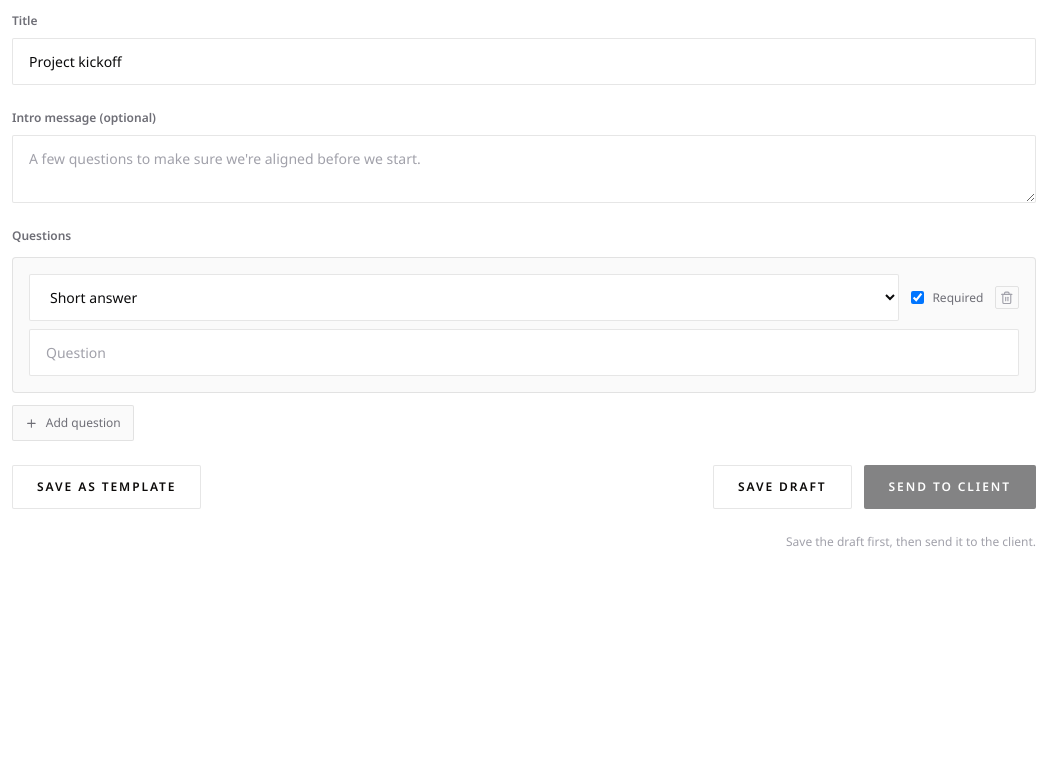
Test: KickoffBuilder › adds and removes question rows
Check: the number of fields with placeholder "Question" is 1, box x1=29 y1=329 x2=1019 y2=376
Step 1. Click the button "Add question" → (73, 423), box x1=12 y1=405 x2=134 y2=441
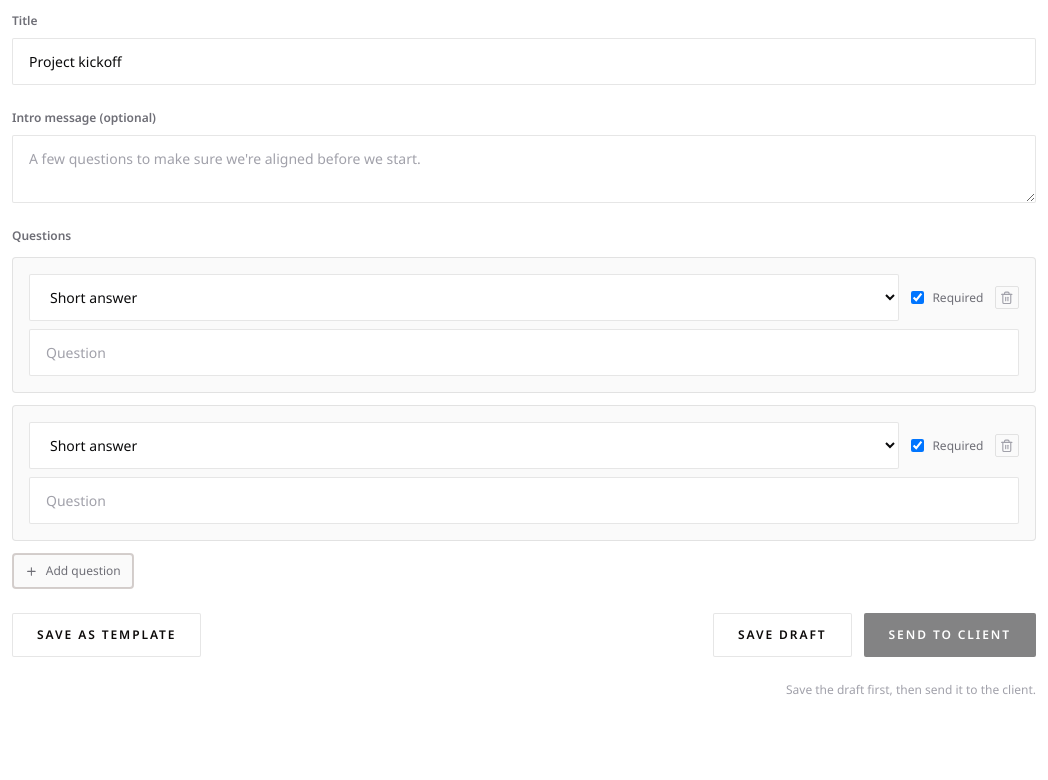
Check: the number of fields with placeholder "Question" is 2, box x1=29 y1=329 x2=1019 y2=376; x1=29 y1=477 x2=1019 y2=524
Step 2. Click the 1st button named "Remove question" → (1007, 298), box x1=995 y1=286 x2=1019 y2=309
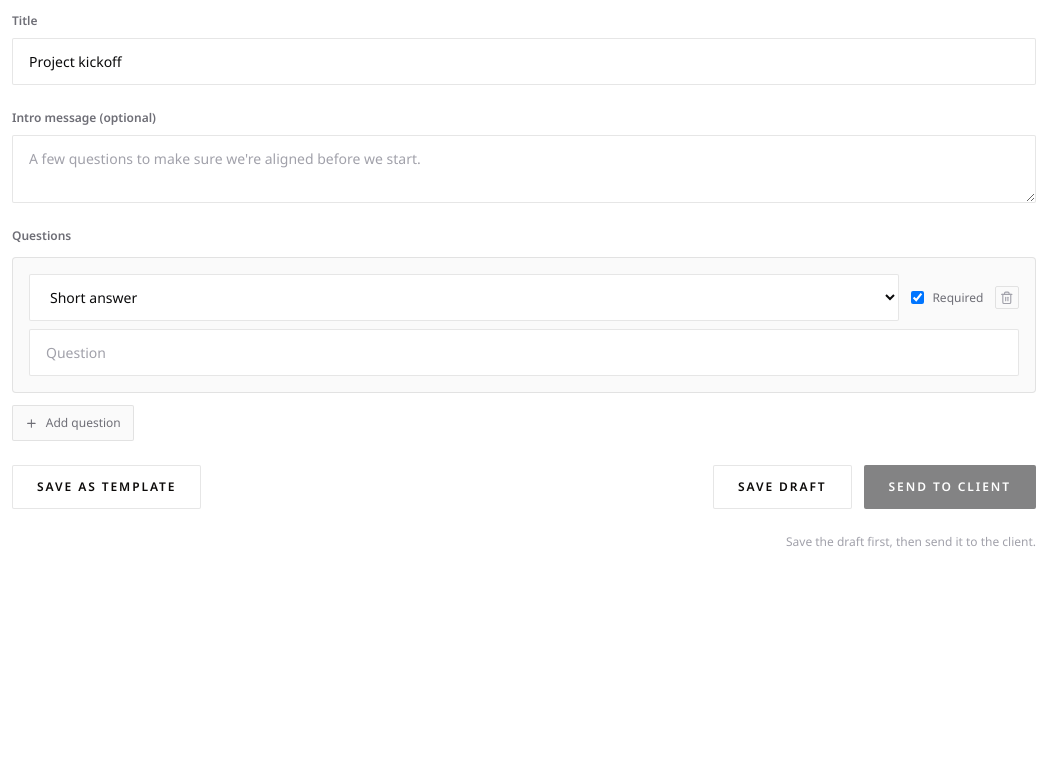
Check: the number of fields with placeholder "Question" is 1, box x1=29 y1=329 x2=1019 y2=376
